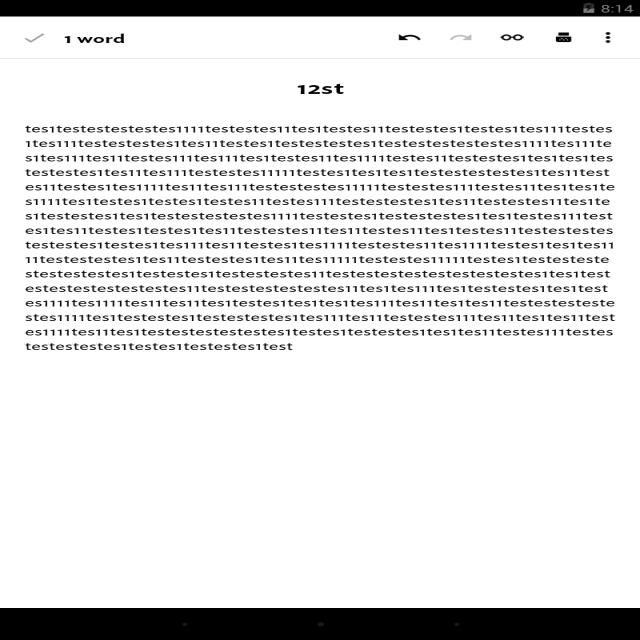TextView: (21, 118, 614, 354)
